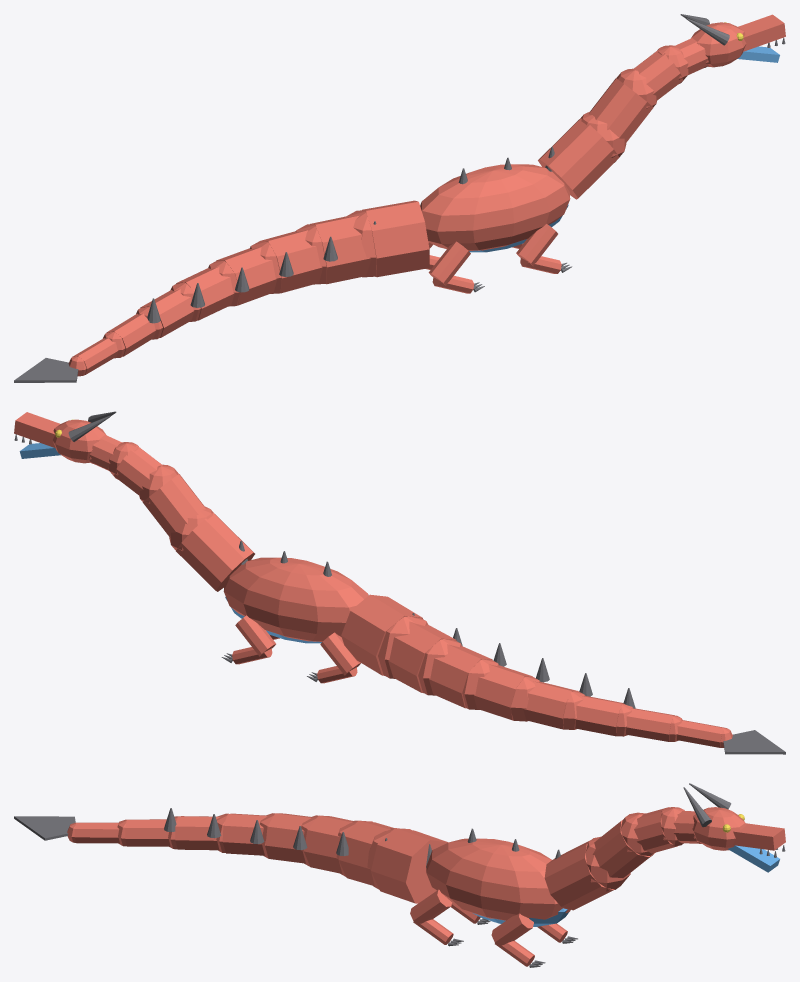
Rendered from dragon_body.glb.
3 renders of one model, top to bottom at view 1: azimuth 30°, elevation 25°; view 2: azimuth 150°, elevation 25°; view 3: azimuth 330°, elevation 25°, orthographic. The views are drawn at different scales.
Parts seen in each view (by area): view 1: model; view 2: model; view 3: model.
Part boxes in pixels (bbox=[...]): model: bbox=[14, 14, 785, 382]; model: bbox=[14, 411, 785, 754]; model: bbox=[14, 783, 785, 967].
Size of the model in its own units: 26.35 by 6.79 by 3.49.
